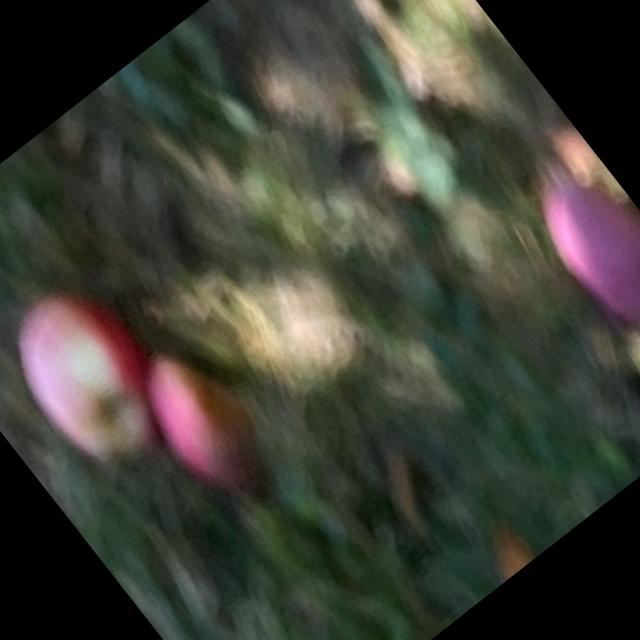Apples: (0, 268, 192, 480), (124, 336, 281, 504), (524, 155, 639, 339)
